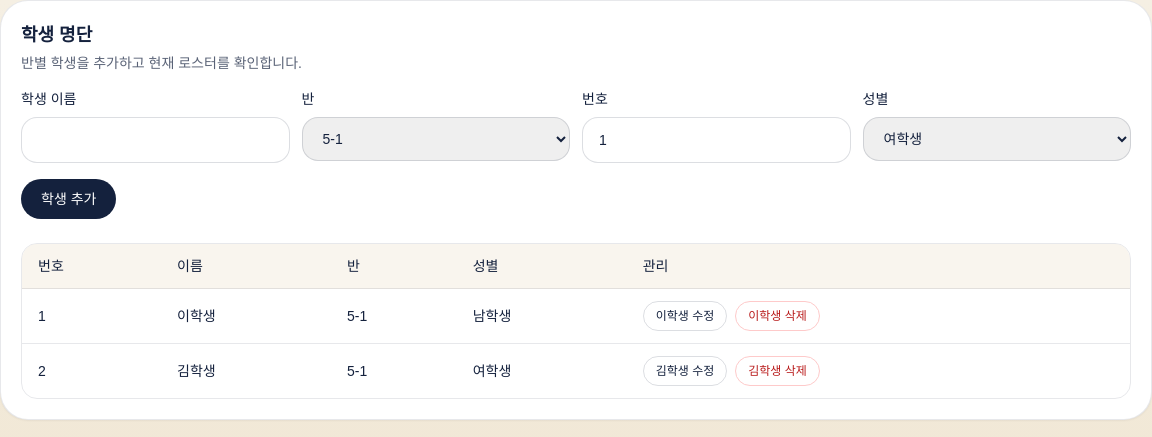
teacher local mutation refresh behavior › deletes an existing student locally and only syncs the next version baseline
Click the button "김학생 삭제" at [778, 371], box [735,356,820,386]
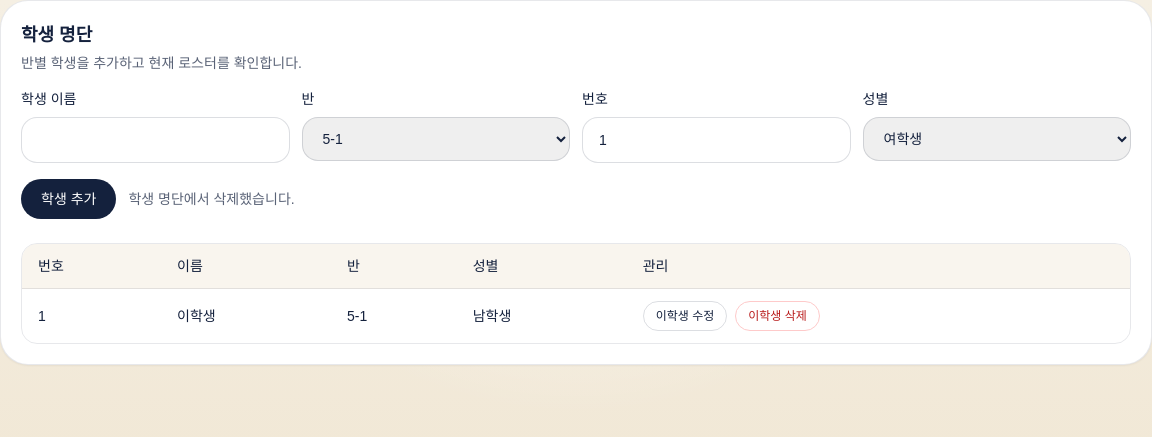
Expected: the text "이학생" is shown, [161,288,331,343]
Expected: the text "학생 명단에서 삭제했습니다." is shown, [128,189,295,209]
Expected: the text "김학생" is gone
